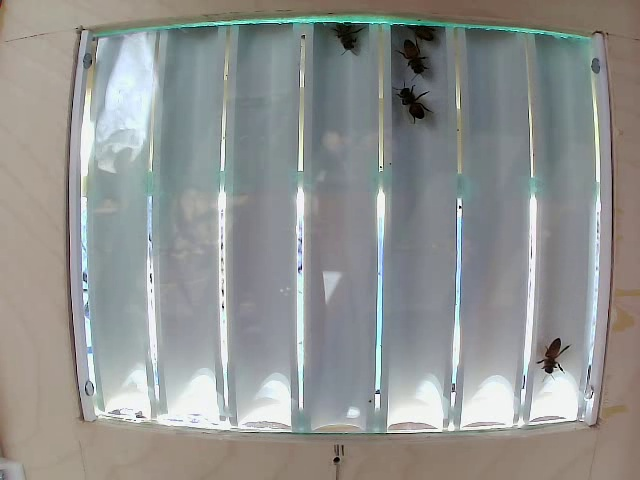bee: (539, 324, 575, 379), (402, 81, 439, 132), (335, 11, 368, 61), (403, 41, 436, 85)
